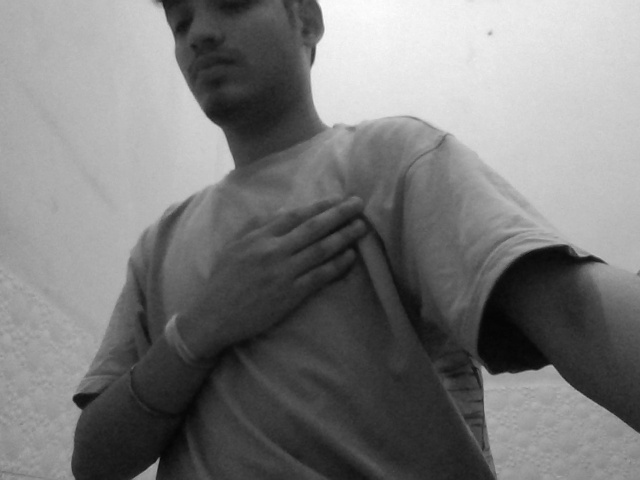Sorry: (163, 190, 395, 352)
